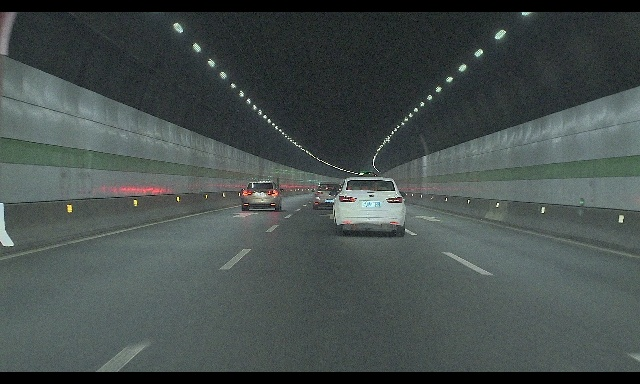car: (329, 177, 406, 237), (241, 181, 284, 212), (311, 182, 344, 210)
